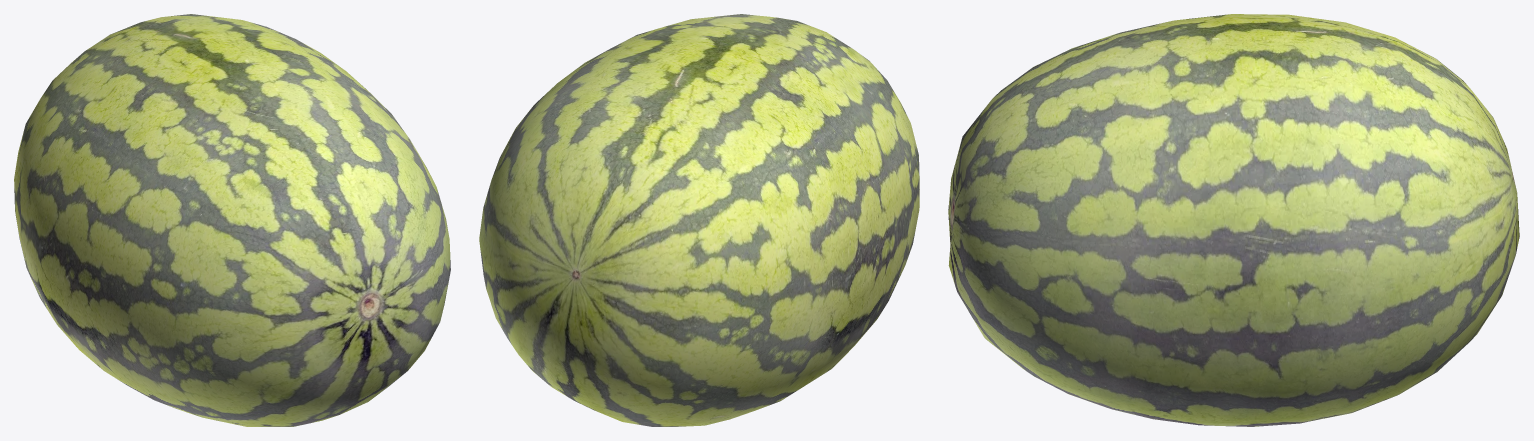
Rendered from honeydew-1.glb.
3 renders of one model, left to right at view 1: azimuth 30°, elevation 25°; view 2: azimuth 150°, elevation 25°; view 3: azimuth 270°, elevation 25°, orthographic. The views are drawn at different scales.
Visible parts, largest first — view 1: Watermelon_Material_0; view 2: Watermelon_Material_0; view 3: Watermelon_Material_0.
Part boxes in pixels (x1,y1,x2,y2): Watermelon_Material_0: (14,14,450,426); Watermelon_Material_0: (479,14,919,426); Watermelon_Material_0: (948,14,1519,426).
Size of the model in its own units: 0.2084 by 0.2047 by 0.2822.
1 material, 1 textured.
